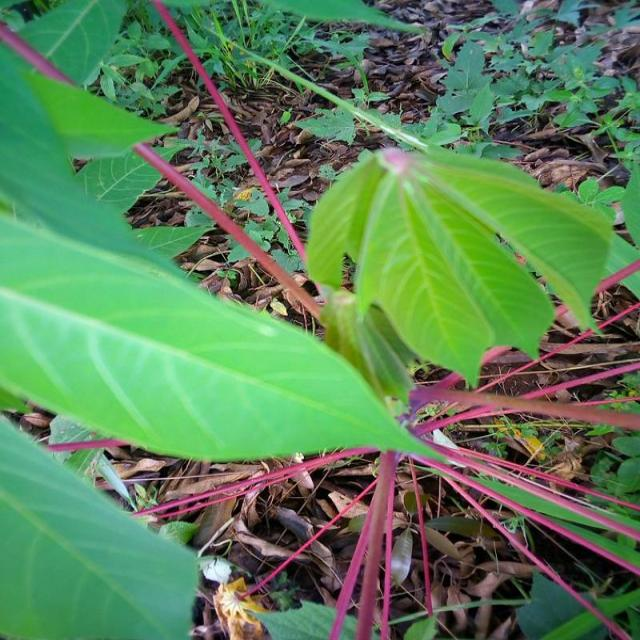cassava leaf: (1, 22, 450, 464), (304, 141, 615, 390), (0, 411, 199, 638)
